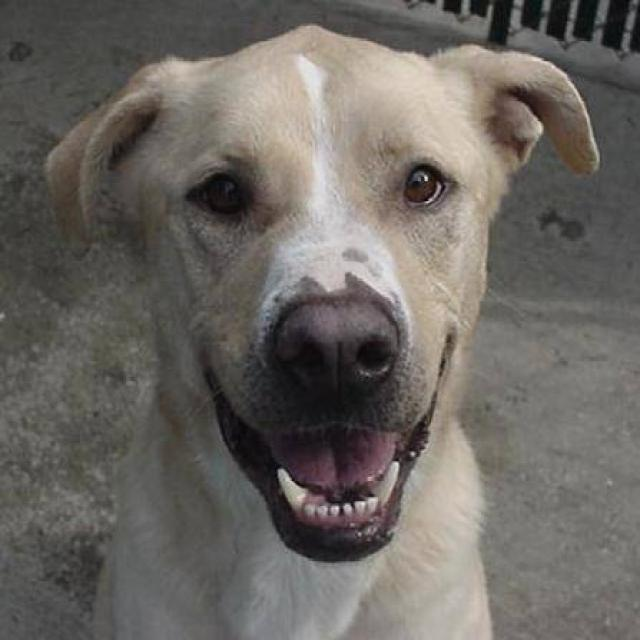Dog: (25, 19, 605, 568)
